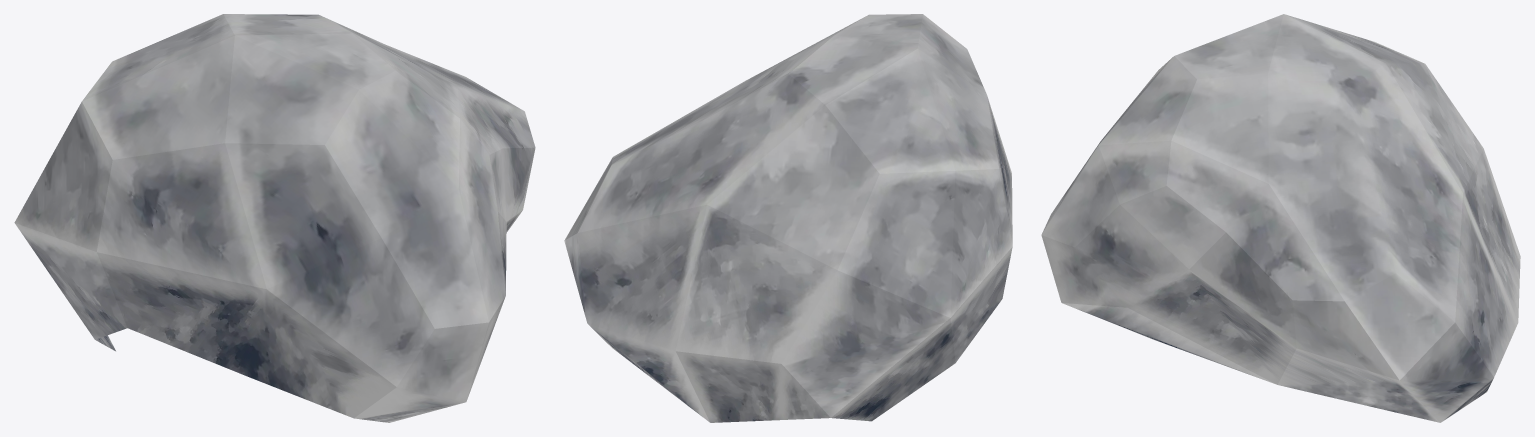
File: Stone.glb
3 renders of one model, left to right at view 1: azimuth 30°, elevation 25°; view 2: azimuth 150°, elevation 25°; view 3: azimuth 270°, elevation 25°, orthographic. The views are drawn at different scales.
Parts seen in each view (by area): view 1: Icosphere.008; view 2: Icosphere.008; view 3: Icosphere.008.
Boxes of the visible parts, x1,y1,x2,y2 form: Icosphere.008: [14, 14, 535, 422]; Icosphere.008: [564, 14, 1012, 422]; Icosphere.008: [1041, 14, 1520, 422].
Size of the model in its own units: 7.27 by 5.6 by 7.45.
Materials: 1 (1 with a texture image).
